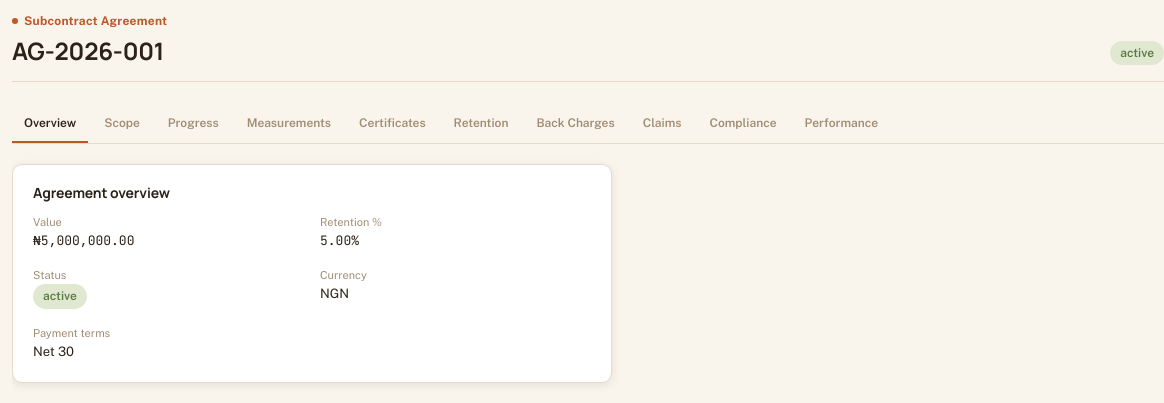
Test: AgreementDetailPage › shows an error when the evidence cannot be fetched
What coordinates should you click on to do the following:
click the button "Claims"
I would click on:
 (662, 125)
Its box is left=631, top=106, right=694, bottom=143.
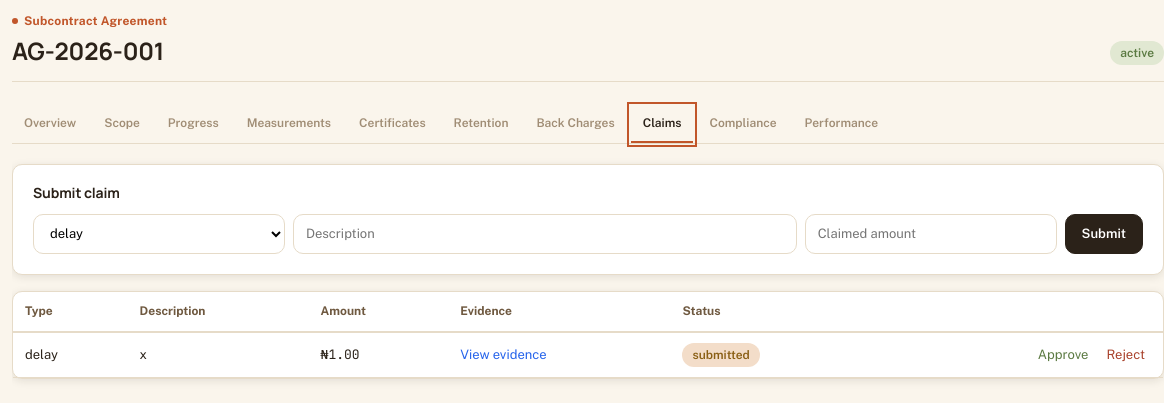
What coordinates should you click on to do the following:
click the button "View evidence"
I would click on:
 (503, 355)
Its box is left=460, top=345, right=547, bottom=365.
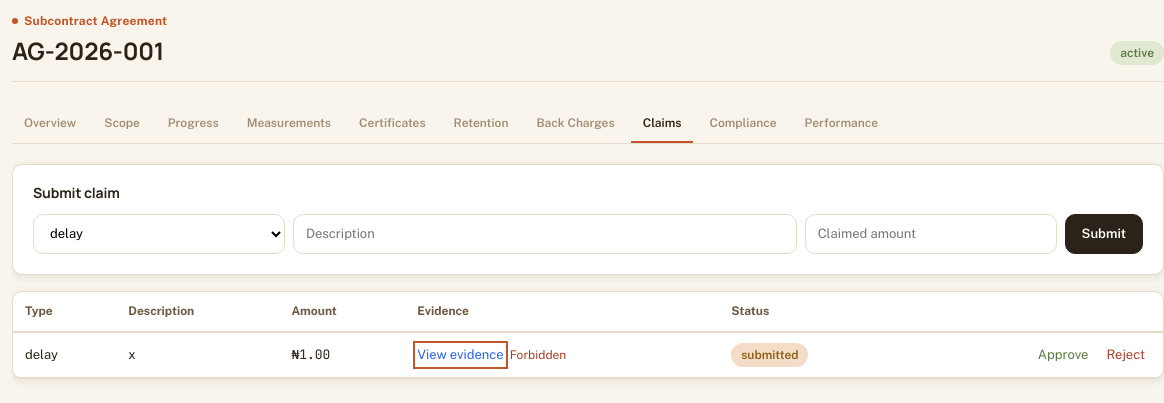
Result: the message reads "Forbidden" at left=510, top=348, right=566, bottom=362
